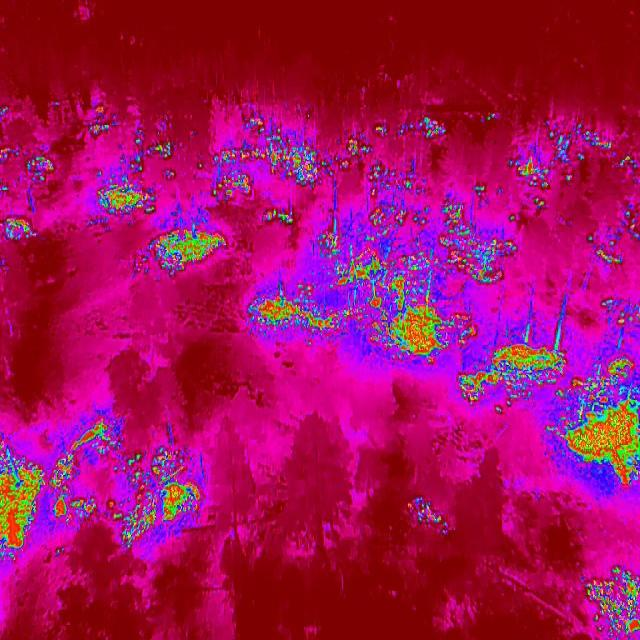fire: (212, 117, 332, 225), (108, 436, 202, 552), (317, 212, 423, 312), (362, 280, 478, 370), (549, 378, 640, 487), (436, 181, 520, 289), (454, 339, 565, 415), (0, 436, 48, 566), (246, 288, 360, 338), (48, 417, 108, 493), (552, 120, 640, 168), (585, 562, 639, 640), (150, 228, 228, 276), (586, 207, 640, 265), (130, 127, 188, 179), (0, 144, 58, 194), (94, 174, 158, 218), (506, 138, 554, 190), (364, 156, 416, 202), (405, 494, 453, 538), (374, 116, 454, 142), (47, 495, 103, 531), (82, 107, 121, 141), (599, 296, 640, 328), (0, 212, 38, 246), (337, 138, 372, 170), (598, 353, 636, 382), (481, 110, 503, 124), (529, 195, 546, 210), (0, 100, 10, 118)
